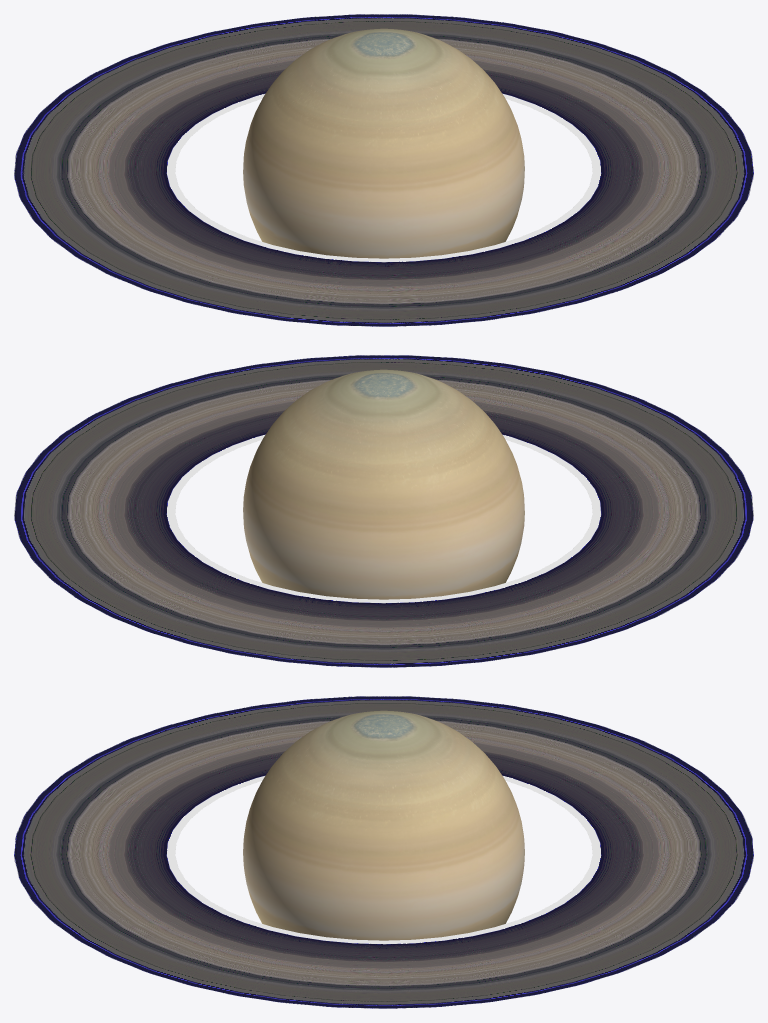
File: Saturn.fbx
The picture shows the model from 3 angles, top to bottom: view 1: azimuth 30°, elevation 25°; view 2: azimuth 150°, elevation 25°; view 3: azimuth 270°, elevation 25°; orthographic projection.
Visible parts, largest first — view 1: Plan, Sphère; view 2: Plan, Sphère; view 3: Plan, Sphère.
Part boxes in pixels (<box>): Plan: <box>14,14,753,326</box>; Sphère: <box>243,28,524,258</box>; Plan: <box>14,355,753,667</box>; Sphère: <box>243,369,524,599</box>; Plan: <box>14,696,753,1008</box>; Sphère: <box>243,710,524,940</box>.
Bounding box in the file's own units: 518 × 200 × 518.
